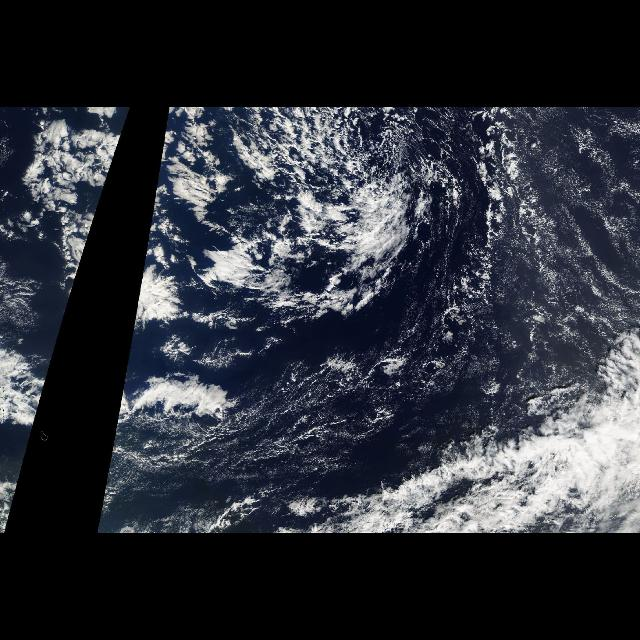Gravel: (236, 110, 516, 176)
